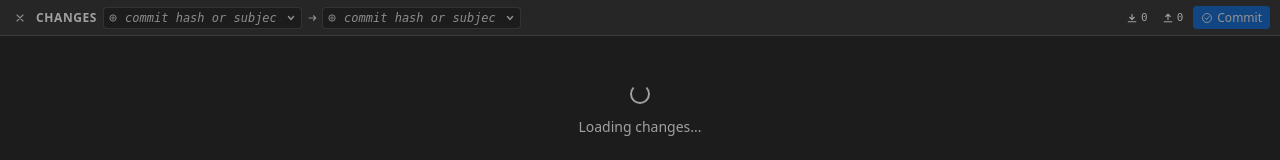
Test: GitStatusPanel: a sync button waiting on the other one names it › names the running pull to both buttons
The image size is (1280, 160).
Expected: the 2nd button "0" is shown, [1158, 6, 1187, 28]
What coordinates should you click on to do the following:
click the 1st button "0"
I would click on:
 (1137, 18)
Its box is [1122, 6, 1152, 28].
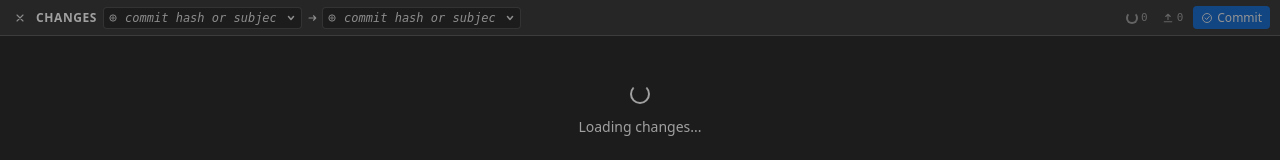
Expected: the 1st button "0" is disabled, [1122, 6, 1152, 28]
Expected: the 2nd button "0" is disabled, [1158, 6, 1187, 28]
